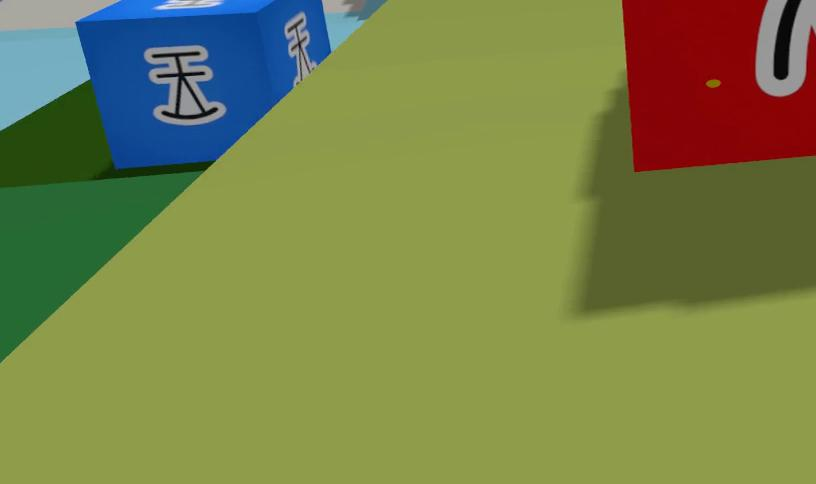KFS_FAKE: (622, 0, 816, 169), (754, 0, 816, 96)
KFS_REAL: (77, 0, 331, 168), (145, 45, 224, 125), (284, 13, 315, 83), (155, 0, 223, 9), (75, 20, 77, 21)
